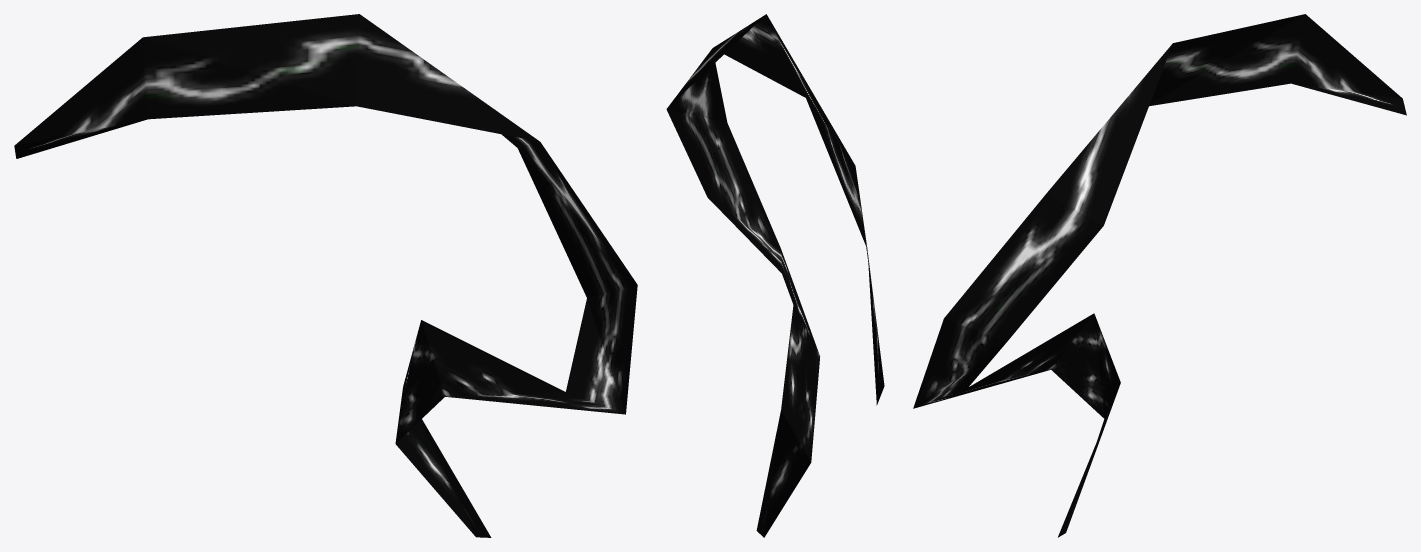
File: sfyyy_sdmx_001.fbx
The picture shows the model from 3 angles, left to right: view 1: azimuth 30°, elevation 25°; view 2: azimuth 150°, elevation 25°; view 3: azimuth 270°, elevation 25°; orthographic projection. The views are drawn at different scales.
Visible parts, largest first — view 1: sfyyy_sdmx_001; view 2: sfyyy_sdmx_001; view 3: sfyyy_sdmx_001.
Boxes of the visible parts, <box> form: sfyyy_sdmx_001: <box>14,14,637,537</box>; sfyyy_sdmx_001: <box>666,14,884,537</box>; sfyyy_sdmx_001: <box>913,14,1406,537</box>.
Size of the model in its own units: 1.56 by 1.95 by 1.89.
